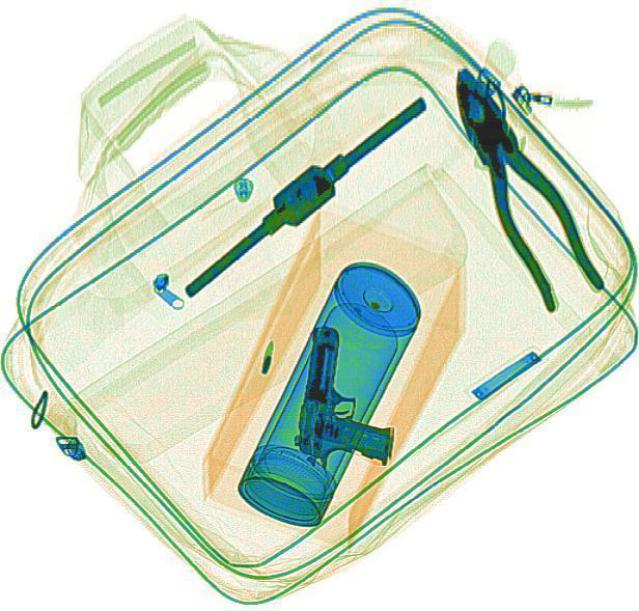Gun: (291, 322, 408, 473)
Pliers: (426, 53, 610, 316)
